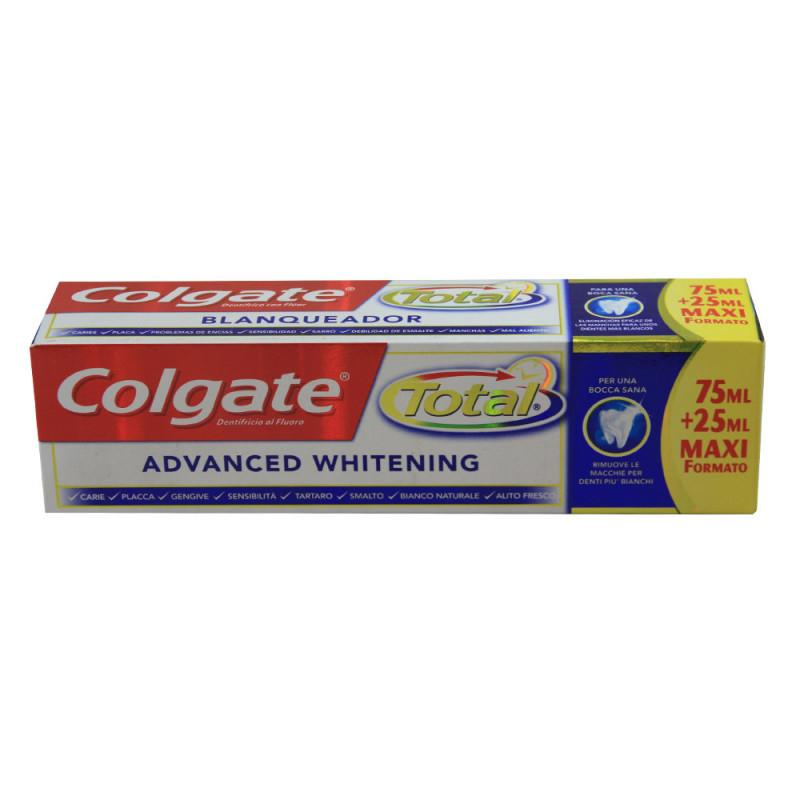toothpaste: (30, 259, 767, 520)
